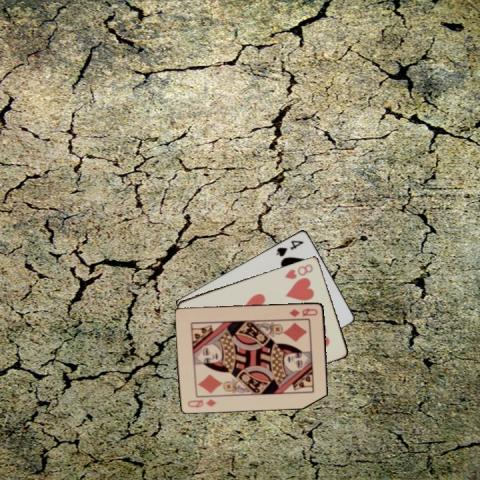4s: (274, 237, 306, 258)
8h: (281, 261, 315, 280)
Qd: (286, 305, 318, 319), (185, 396, 218, 409)
